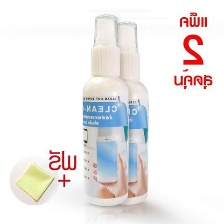cleaning_solution: (80, 13, 131, 208), (108, 19, 151, 206)
